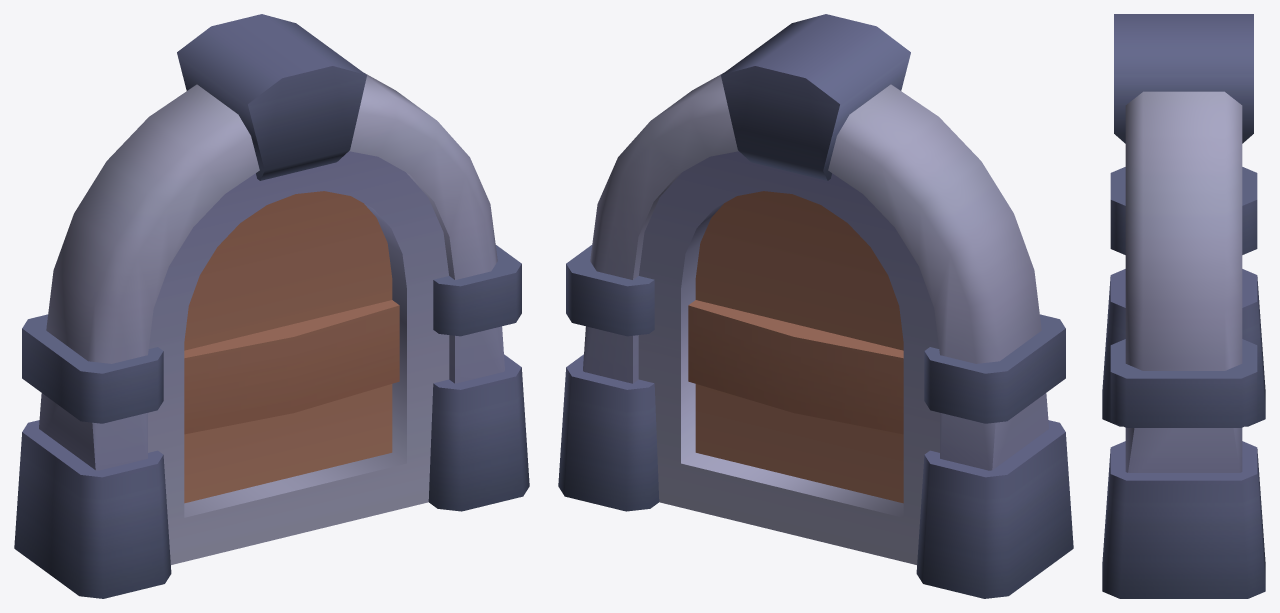
The model's file is kenney-modular-dungeon-gate-door.glb.
The picture shows the model from 3 angles, left to right: view 1: azimuth 30°, elevation 25°; view 2: azimuth 150°, elevation 25°; view 3: azimuth 270°, elevation 25°; orthographic projection.
Parts seen in each view (by area): view 1: gate-door, door; view 2: gate-door, door; view 3: gate-door.
Boxes of the visible parts, <box> form: gate-door: <box>14,14,529,598</box>; door: <box>148,151,449,564</box>; gate-door: <box>558,14,1073,598</box>; door: <box>638,151,939,564</box>; gate-door: <box>1102,14,1265,598</box>.
Bounding box in the file's own units: 4.4 × 4.4 × 1.4.
Materials: 1 (1 with a texture image).
